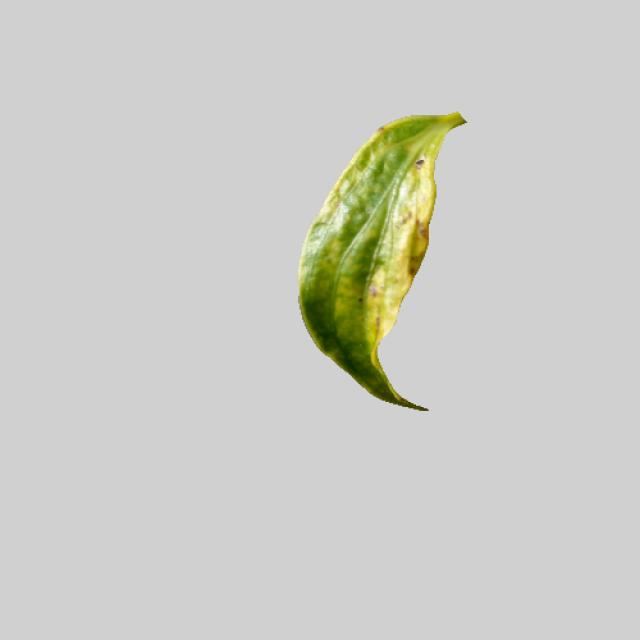yellow-mottle-virus: (284, 109, 471, 412)
